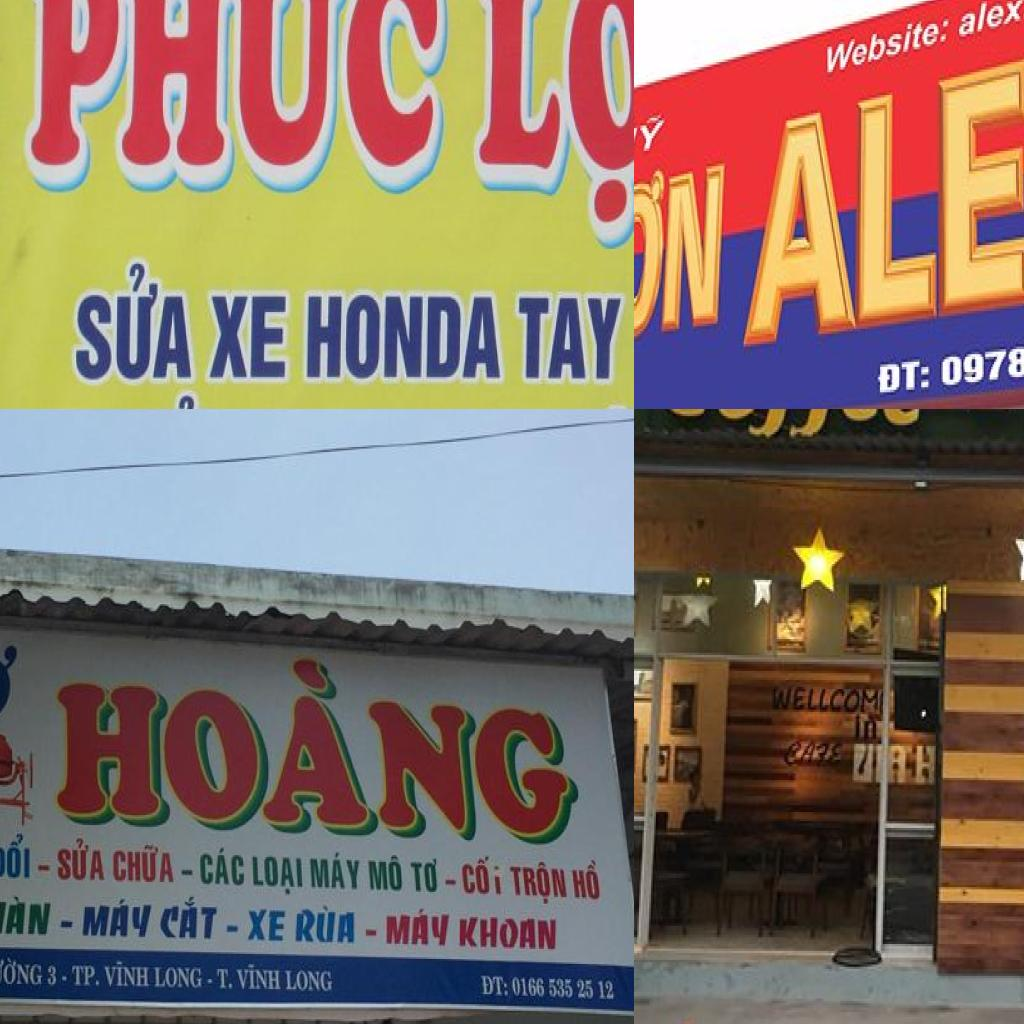text: (42, 644, 582, 850), (739, 13, 1024, 354), (4, 0, 457, 208), (464, 0, 634, 257), (300, 286, 507, 386), (634, 158, 729, 351), (68, 257, 198, 387), (512, 288, 624, 385), (823, 8, 954, 80), (651, 409, 931, 441), (201, 288, 291, 385), (940, 323, 1024, 392), (456, 915, 559, 954), (78, 896, 156, 946), (772, 682, 883, 714), (383, 904, 454, 952), (108, 838, 176, 888), (159, 894, 223, 947), (506, 854, 566, 908), (293, 904, 358, 952), (0, 892, 57, 942), (52, 836, 107, 884), (307, 850, 364, 896), (0, 637, 28, 729), (250, 850, 304, 896), (886, 744, 940, 789), (190, 846, 247, 888), (781, 735, 847, 771), (874, 357, 933, 397), (458, 852, 505, 900), (234, 959, 284, 1001), (634, 113, 669, 169), (244, 904, 289, 947), (569, 852, 603, 907), (0, 952, 43, 995), (102, 954, 152, 989), (286, 967, 336, 1001), (152, 960, 206, 990), (0, 831, 33, 880), (366, 854, 403, 896), (408, 854, 442, 897), (71, 962, 104, 998), (475, 970, 511, 1000), (214, 964, 237, 997), (854, 712, 880, 741), (44, 962, 58, 994)
